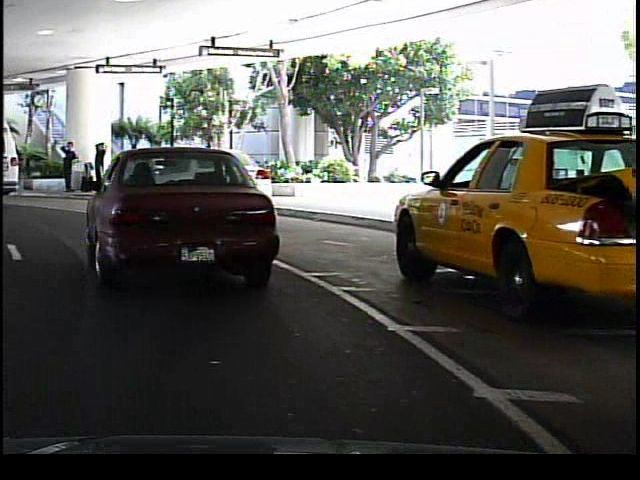person: (141, 143, 168, 197), (53, 139, 77, 197), (89, 140, 107, 186)
